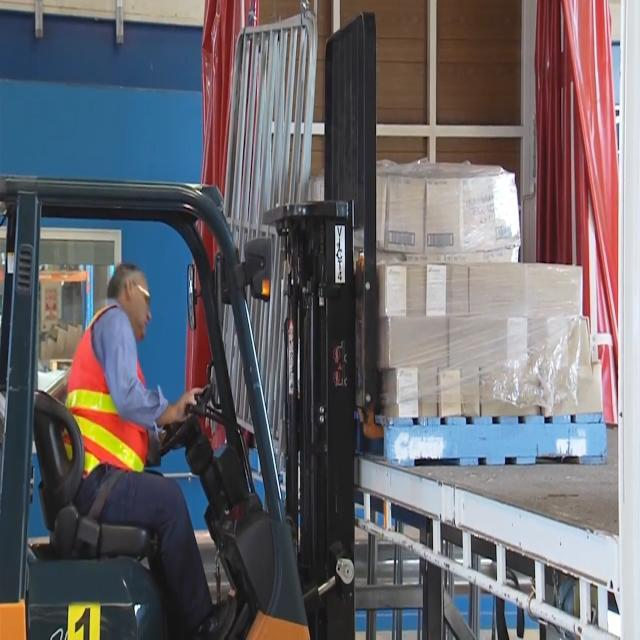box: (373, 144, 609, 429)
forklift: (0, 1, 408, 640)
pallets: (348, 397, 613, 479)
person: (45, 213, 258, 640)
